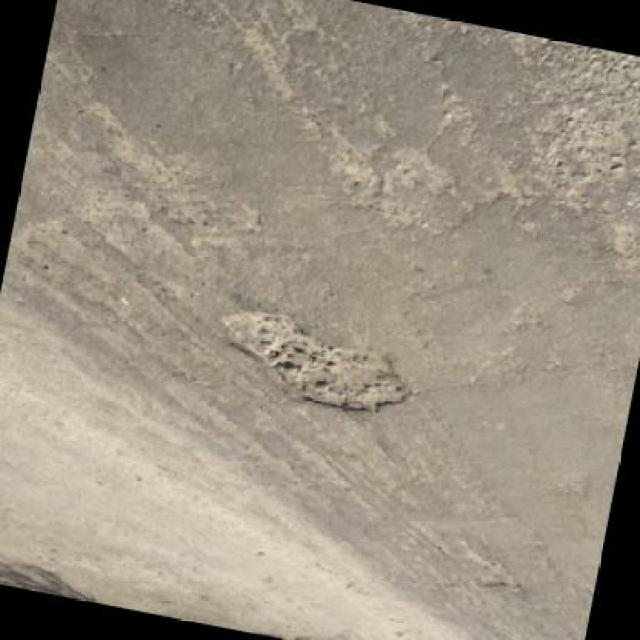pothole1: (205, 303, 423, 426), (462, 550, 529, 601)
